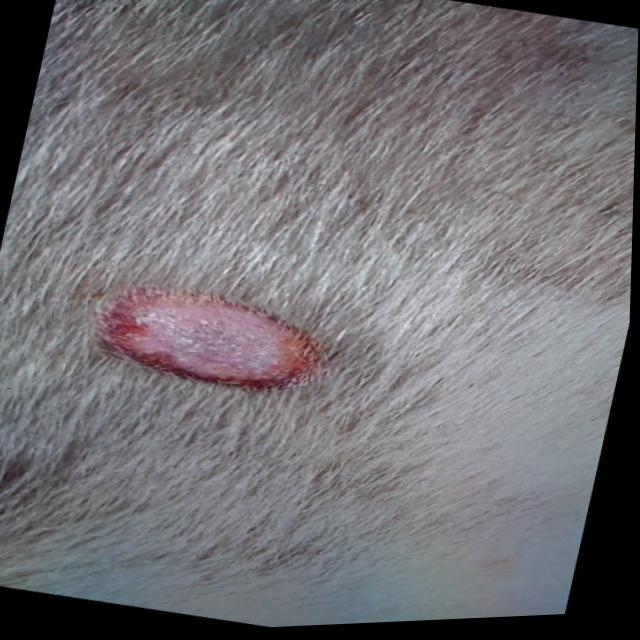ringworm: (47, 239, 347, 430)
